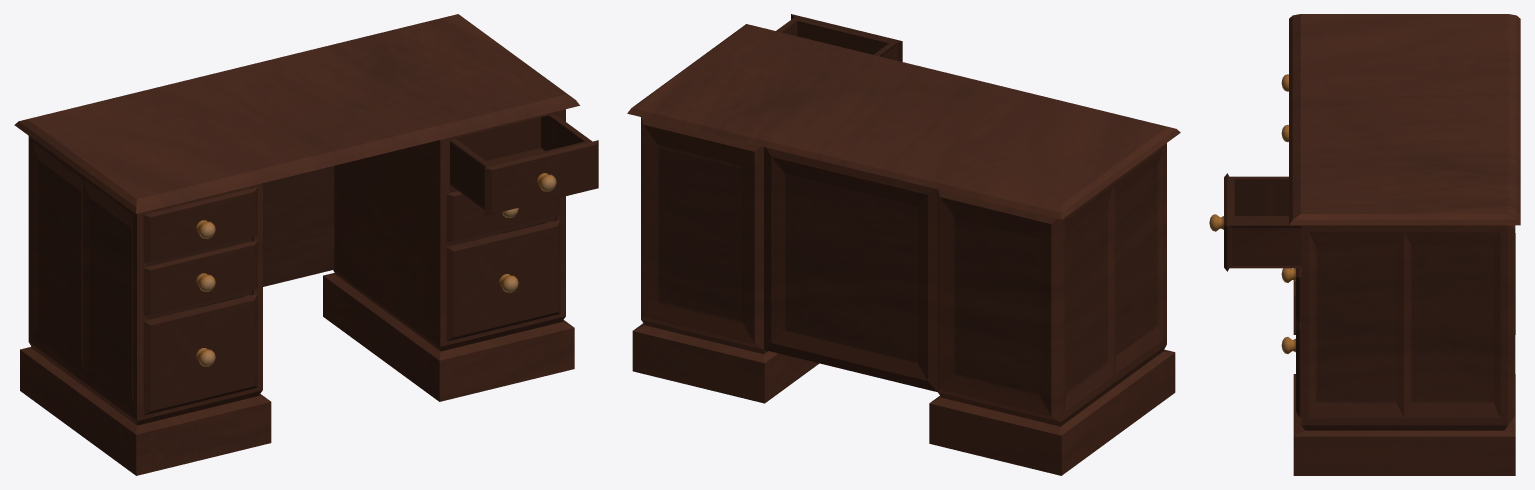
Rendered from DeskAssetPartsClose.fbx.
3 renders of one model, left to right at view 1: azimuth 30°, elevation 25°; view 2: azimuth 150°, elevation 25°; view 3: azimuth 270°, elevation 25°, orthographic. The views are drawn at different scales.
Parts seen in each view (by area): view 1: DeskCabinet1, DeskTop, DeskCabinet2, Deskdrawer, DeskFront; view 2: DeskCabinet1, DeskTop, DeskFront, DeskCabinet2, Deskdrawer; view 3: DeskCabinet2, DeskTop, Deskdrawer, DeskCabinet1.
Boxes of the visible parts, x1=… form: DeskCabinet1: x1=20, y1=136, x2=271, y2=475; DeskTop: x1=14, y1=14, x2=579, y2=213; DeskCabinet2: x1=323, y1=109, x2=574, y2=401; Deskdrawer: x1=450, y1=114, x2=598, y2=215; DeskFront: x1=263, y1=166, x2=334, y2=286; DeskCabinet1: x1=929, y1=143, x2=1175, y2=475; DeskTop: x1=627, y1=24, x2=1180, y2=219; DeskFront: x1=764, y1=147, x2=937, y2=391; DeskCabinet2: x1=632, y1=117, x2=819, y2=403; Deskdrawer: x1=776, y1=14, x2=902, y2=61; DeskCabinet2: x1=1281, y1=225, x2=1515, y2=475; DeskTop: x1=1289, y1=14, x2=1520, y2=225; Deskdrawer: x1=1209, y1=173, x2=1301, y2=271; DeskCabinet1: x1=1281, y1=74, x2=1515, y2=334.
Bounding box in the file's own units: 8.8 × 5.17 × 5.6.
